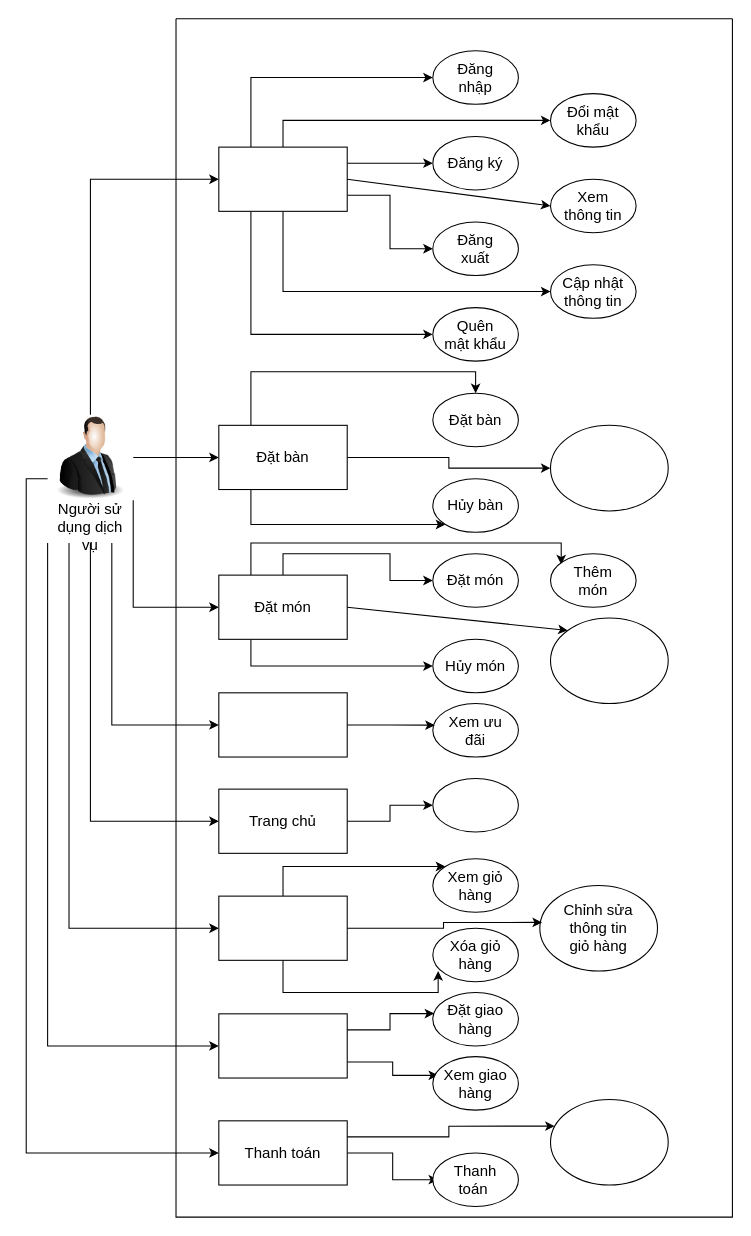
This 751x1236 diagram has some shape labels left out. The shapes that lost their labels are listed below. From the top down, each one's box as (x1, y1, x2, y2) in pixels, then its label:
(218, 146, 347, 211): Tài khoản khách hàng
(549, 424, 668, 511): Chỉnh sửa thông tin bàn
(549, 617, 668, 704): Chỉnh sửa thông tin đặt món
(218, 692, 347, 757): Ưu đãi
(432, 777, 518, 832): Xem trang chủ
(218, 895, 347, 960): Giỏ hàng
(218, 1013, 347, 1078): Giao hàng
(549, 1098, 668, 1185): Xem lịch sử giao dịch
